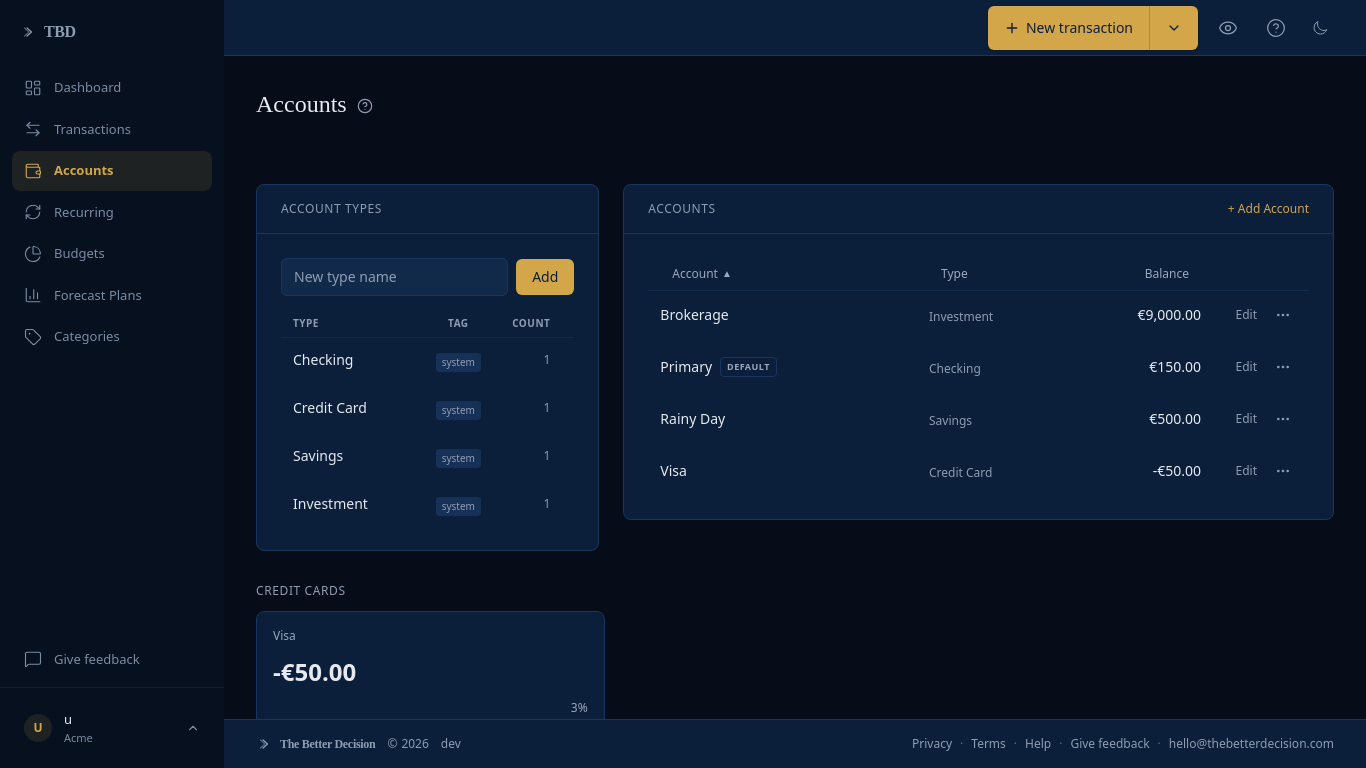
CC Model — form fields › non-CC edit row shows none of the CC fields
The width and height of the screenshot is (1366, 768).
Click the button "Edit" next to "€150.00" at (1246, 367), box [1236, 359, 1257, 375]
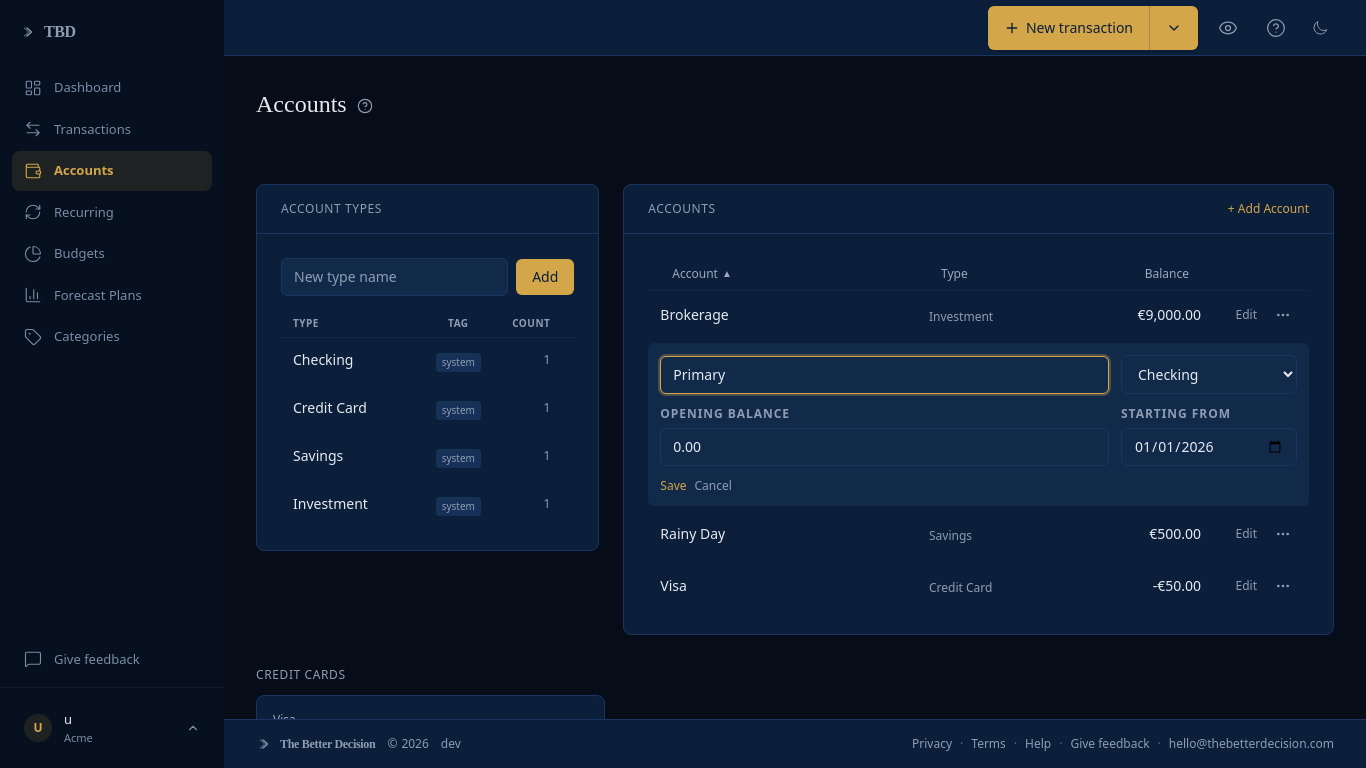
Expected: the field labelled "Credit limit" is not shown
Expected: the dropdown named "Account type" is shown, [1121, 355, 1297, 394]
